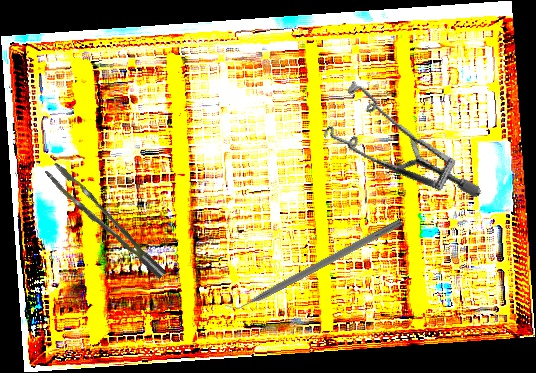Chopper: (222, 209, 403, 317)
Speculum: (307, 51, 483, 246)
Tissue Forceps: (44, 152, 167, 293)
